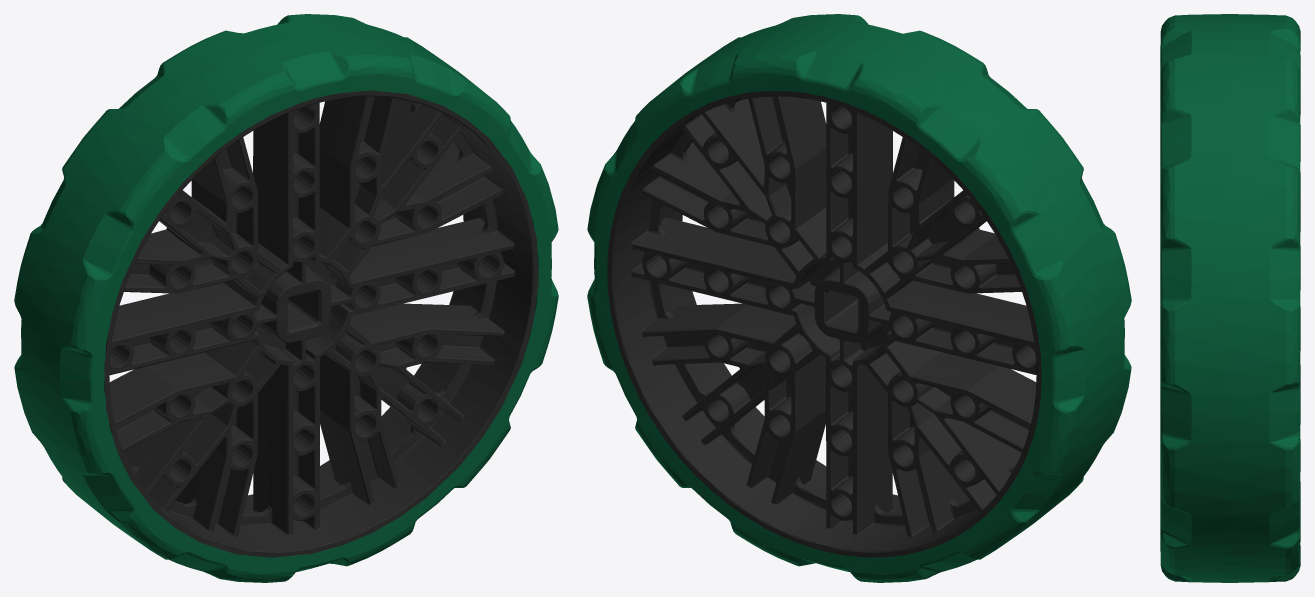
Rendered from 4_Anti-Static_Wheel.glb.
3 views of the same model, side by side, from view 1: azimuth 30°, elevation 25°; view 2: azimuth 150°, elevation 25°; view 3: azimuth 270°, elevation 25° (orthographic).
Parts seen in each view (by area): view 1: 4 Anti-Static Wheel; view 2: 4 Anti-Static Wheel; view 3: 4 Anti-Static Wheel.
Part boxes in pixels (x1,y1,x2,y2): 4 Anti-Static Wheel: (14, 14, 558, 582); 4 Anti-Static Wheel: (587, 14, 1131, 582); 4 Anti-Static Wheel: (1160, 14, 1300, 582).
Bounding box in the file's own units: 4 × 4 × 0.9844.
